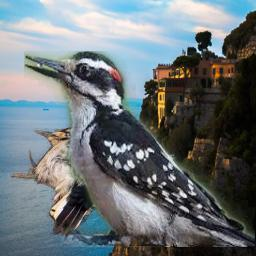Woodpecker: (24, 51, 255, 247), (11, 124, 128, 236)
